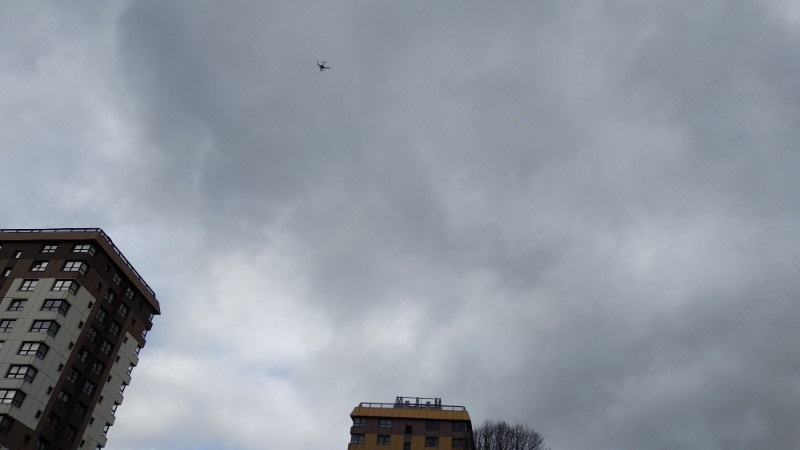drone: (317, 61, 331, 72)
